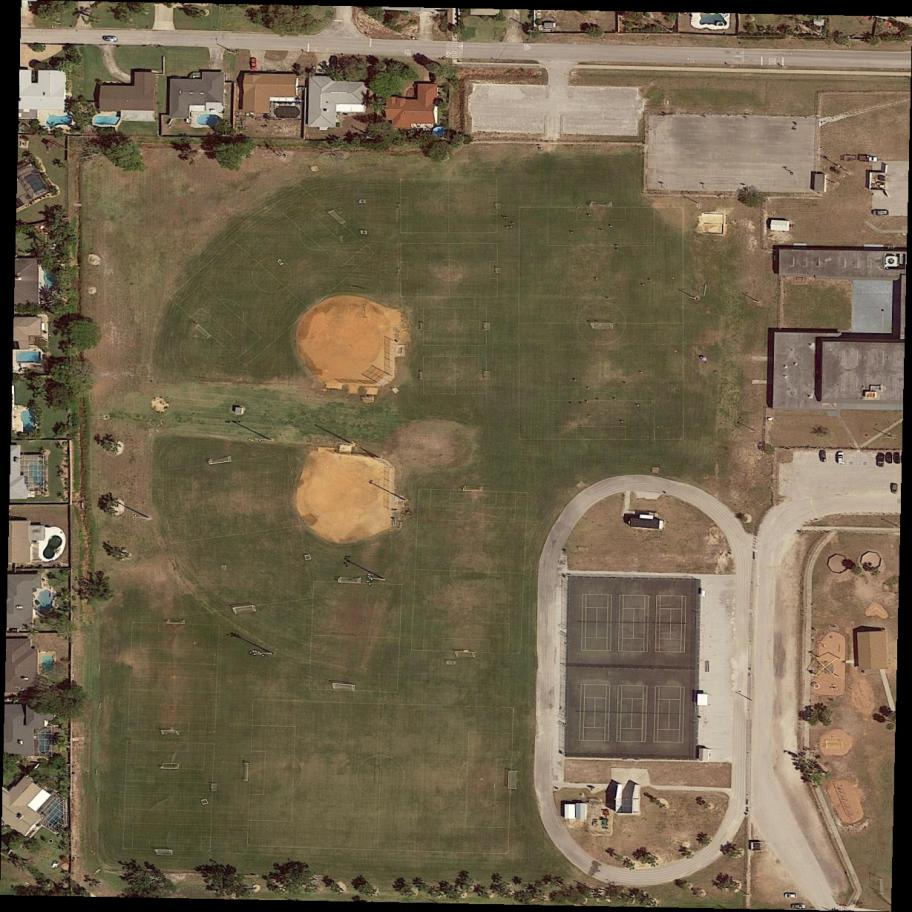small-vehicle: (858, 154, 878, 163), (872, 208, 890, 217), (876, 453, 886, 469), (837, 450, 845, 466), (103, 35, 118, 42), (784, 892, 797, 900), (250, 56, 257, 70), (819, 450, 827, 462), (891, 482, 899, 494), (885, 453, 893, 465), (792, 903, 807, 909), (22, 677, 30, 682), (16, 607, 24, 610)
